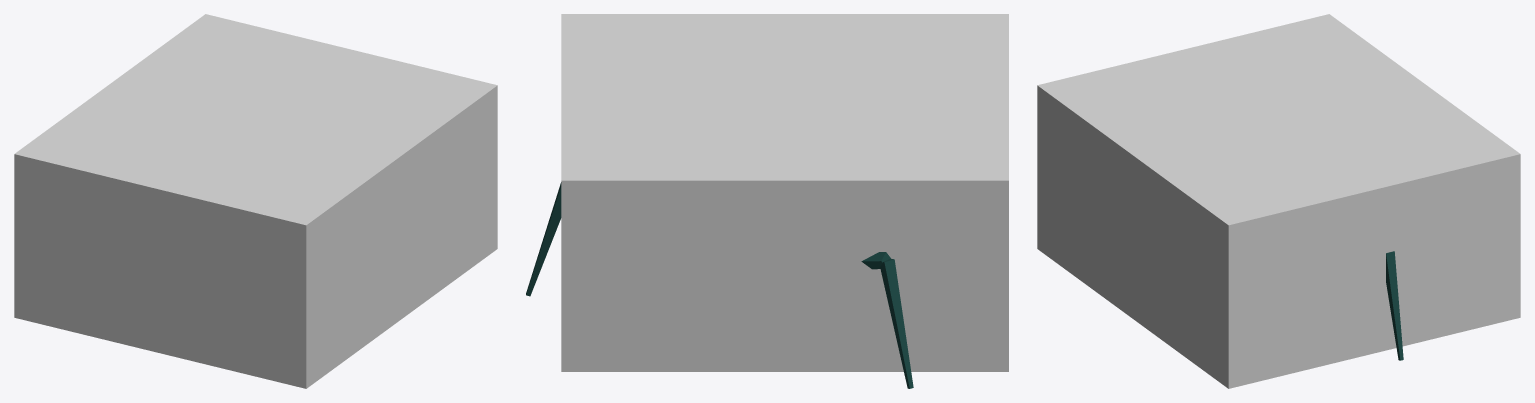
File: desert_giant_scarab.fbx
3 views of the same model, side by side, from view 1: azimuth 30°, elevation 25°; view 2: azimuth 150°, elevation 25°; view 3: azimuth 270°, elevation 25° (orthographic). The views are drawn at different scales.
Parts seen in each view (by area): view 1: Root__0.00_1.99_-0.25__8.48_4.00_7.47; view 2: Root__0.00_1.99_-0.25__8.48_4.00_7.47, LegR3__Body__1.79_1.89_1.99, LegL3__Body__-1.79_1.89_1.99; view 3: Root__0.00_1.99_-0.25__8.48_4.00_7.47, LegL3__Body__-1.79_1.89_1.99.
Part boxes in pixels (<box>): Root__0.00_1.99_-0.25__8.48_4.00_7.47: <box>14,14,497,388</box>; Root__0.00_1.99_-0.25__8.48_4.00_7.47: <box>561,14,1008,371</box>; LegR3__Body__1.79_1.89_1.99: <box>861,252,913,388</box>; LegL3__Body__-1.79_1.89_1.99: <box>526,182,561,296</box>; Root__0.00_1.99_-0.25__8.48_4.00_7.47: <box>1037,14,1520,388</box>; LegL3__Body__-1.79_1.89_1.99: <box>1386,251,1403,360</box>.
Bounding box in the file's own units: 310 × 112 × 300.
1 material, 1 textured.
